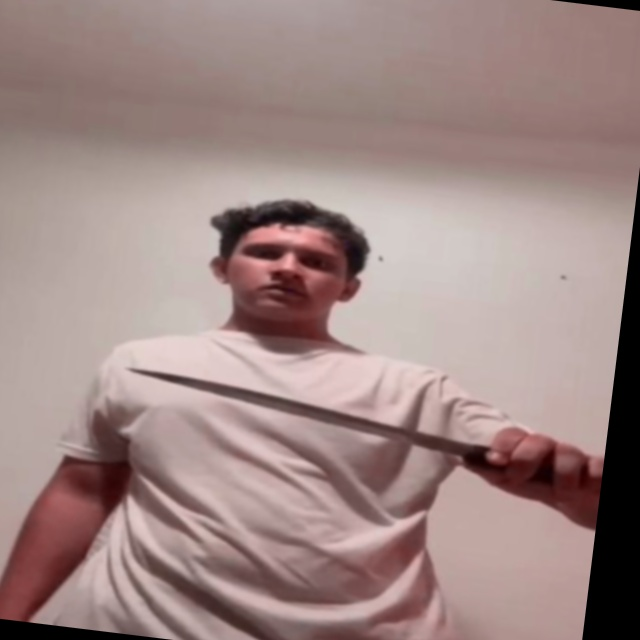Sharp-Object: (121, 366, 477, 463)
